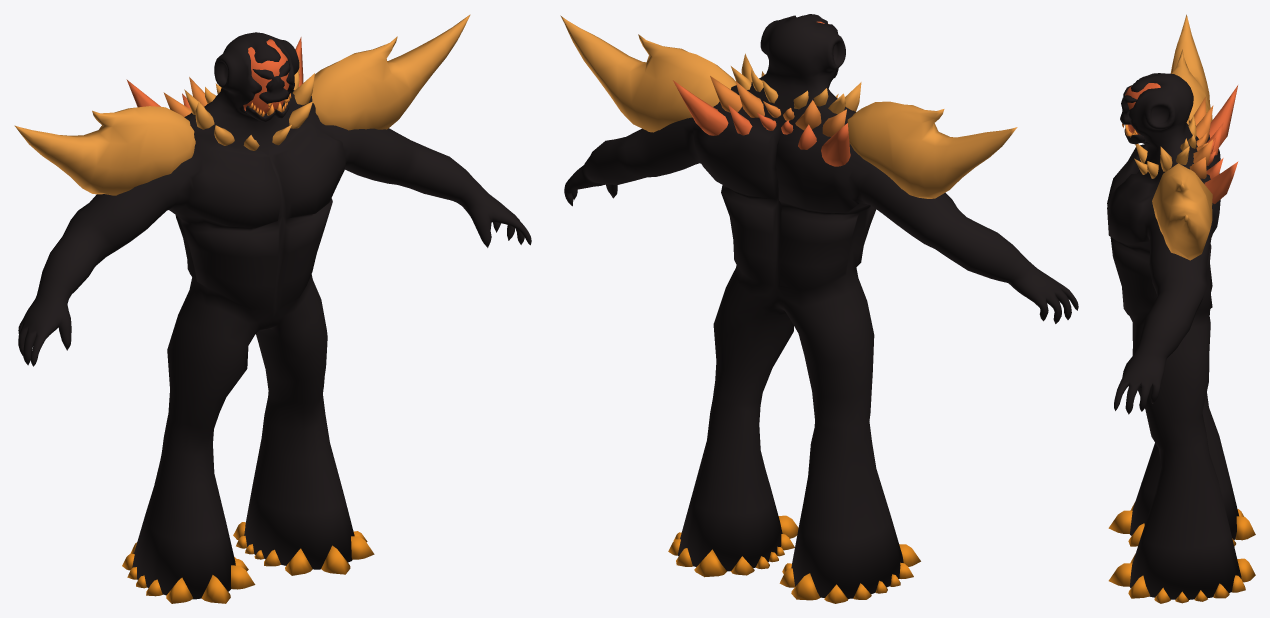
The model's file is Boss.fbx.
The picture shows the model from 3 angles, left to right: view 1: azimuth 30°, elevation 25°; view 2: azimuth 150°, elevation 25°; view 3: azimuth 270°, elevation 25°; orthographic projection. The views are drawn at different scales.
Parts seen in each view (by area): view 1: Human_BaseMesh, Plane, Cube.001, Cube.002, Plane.001; view 2: Human_BaseMesh, Plane, Cube.001, Cube.014, Cube.003, Cube.002; view 3: Human_BaseMesh, Plane, Cube.001, Cube.014, Cube.003, Cube.002, Plane.001.
Boxes of the visible parts, x1,y1,x2,y2 form: Human_BaseMesh: (18, 32, 531, 599); Plane: (14, 14, 470, 195); Cube.001: (122, 522, 374, 603); Cube.002: (184, 70, 314, 150); Plane.001: (243, 39, 289, 113); Human_BaseMesh: (564, 14, 1078, 598); Plane: (560, 15, 1017, 198); Cube.001: (668, 515, 920, 603); Cube.014: (673, 80, 850, 166); Cube.003: (710, 76, 846, 136); Cube.002: (731, 53, 861, 113); Human_BaseMesh: (1107, 73, 1241, 599); Plane: (1152, 14, 1212, 260); Cube.001: (1108, 502, 1255, 603); Cube.014: (1204, 85, 1238, 203); Cube.003: (1189, 97, 1213, 178); Cube.002: (1134, 115, 1196, 178); Plane.001: (1125, 83, 1160, 134).
Bounding box in the file's own units: 5684 × 5777 × 1624.
